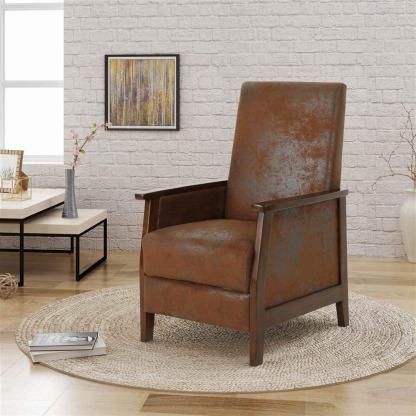chair: (129, 72, 356, 374)
table: (0, 179, 113, 289)
